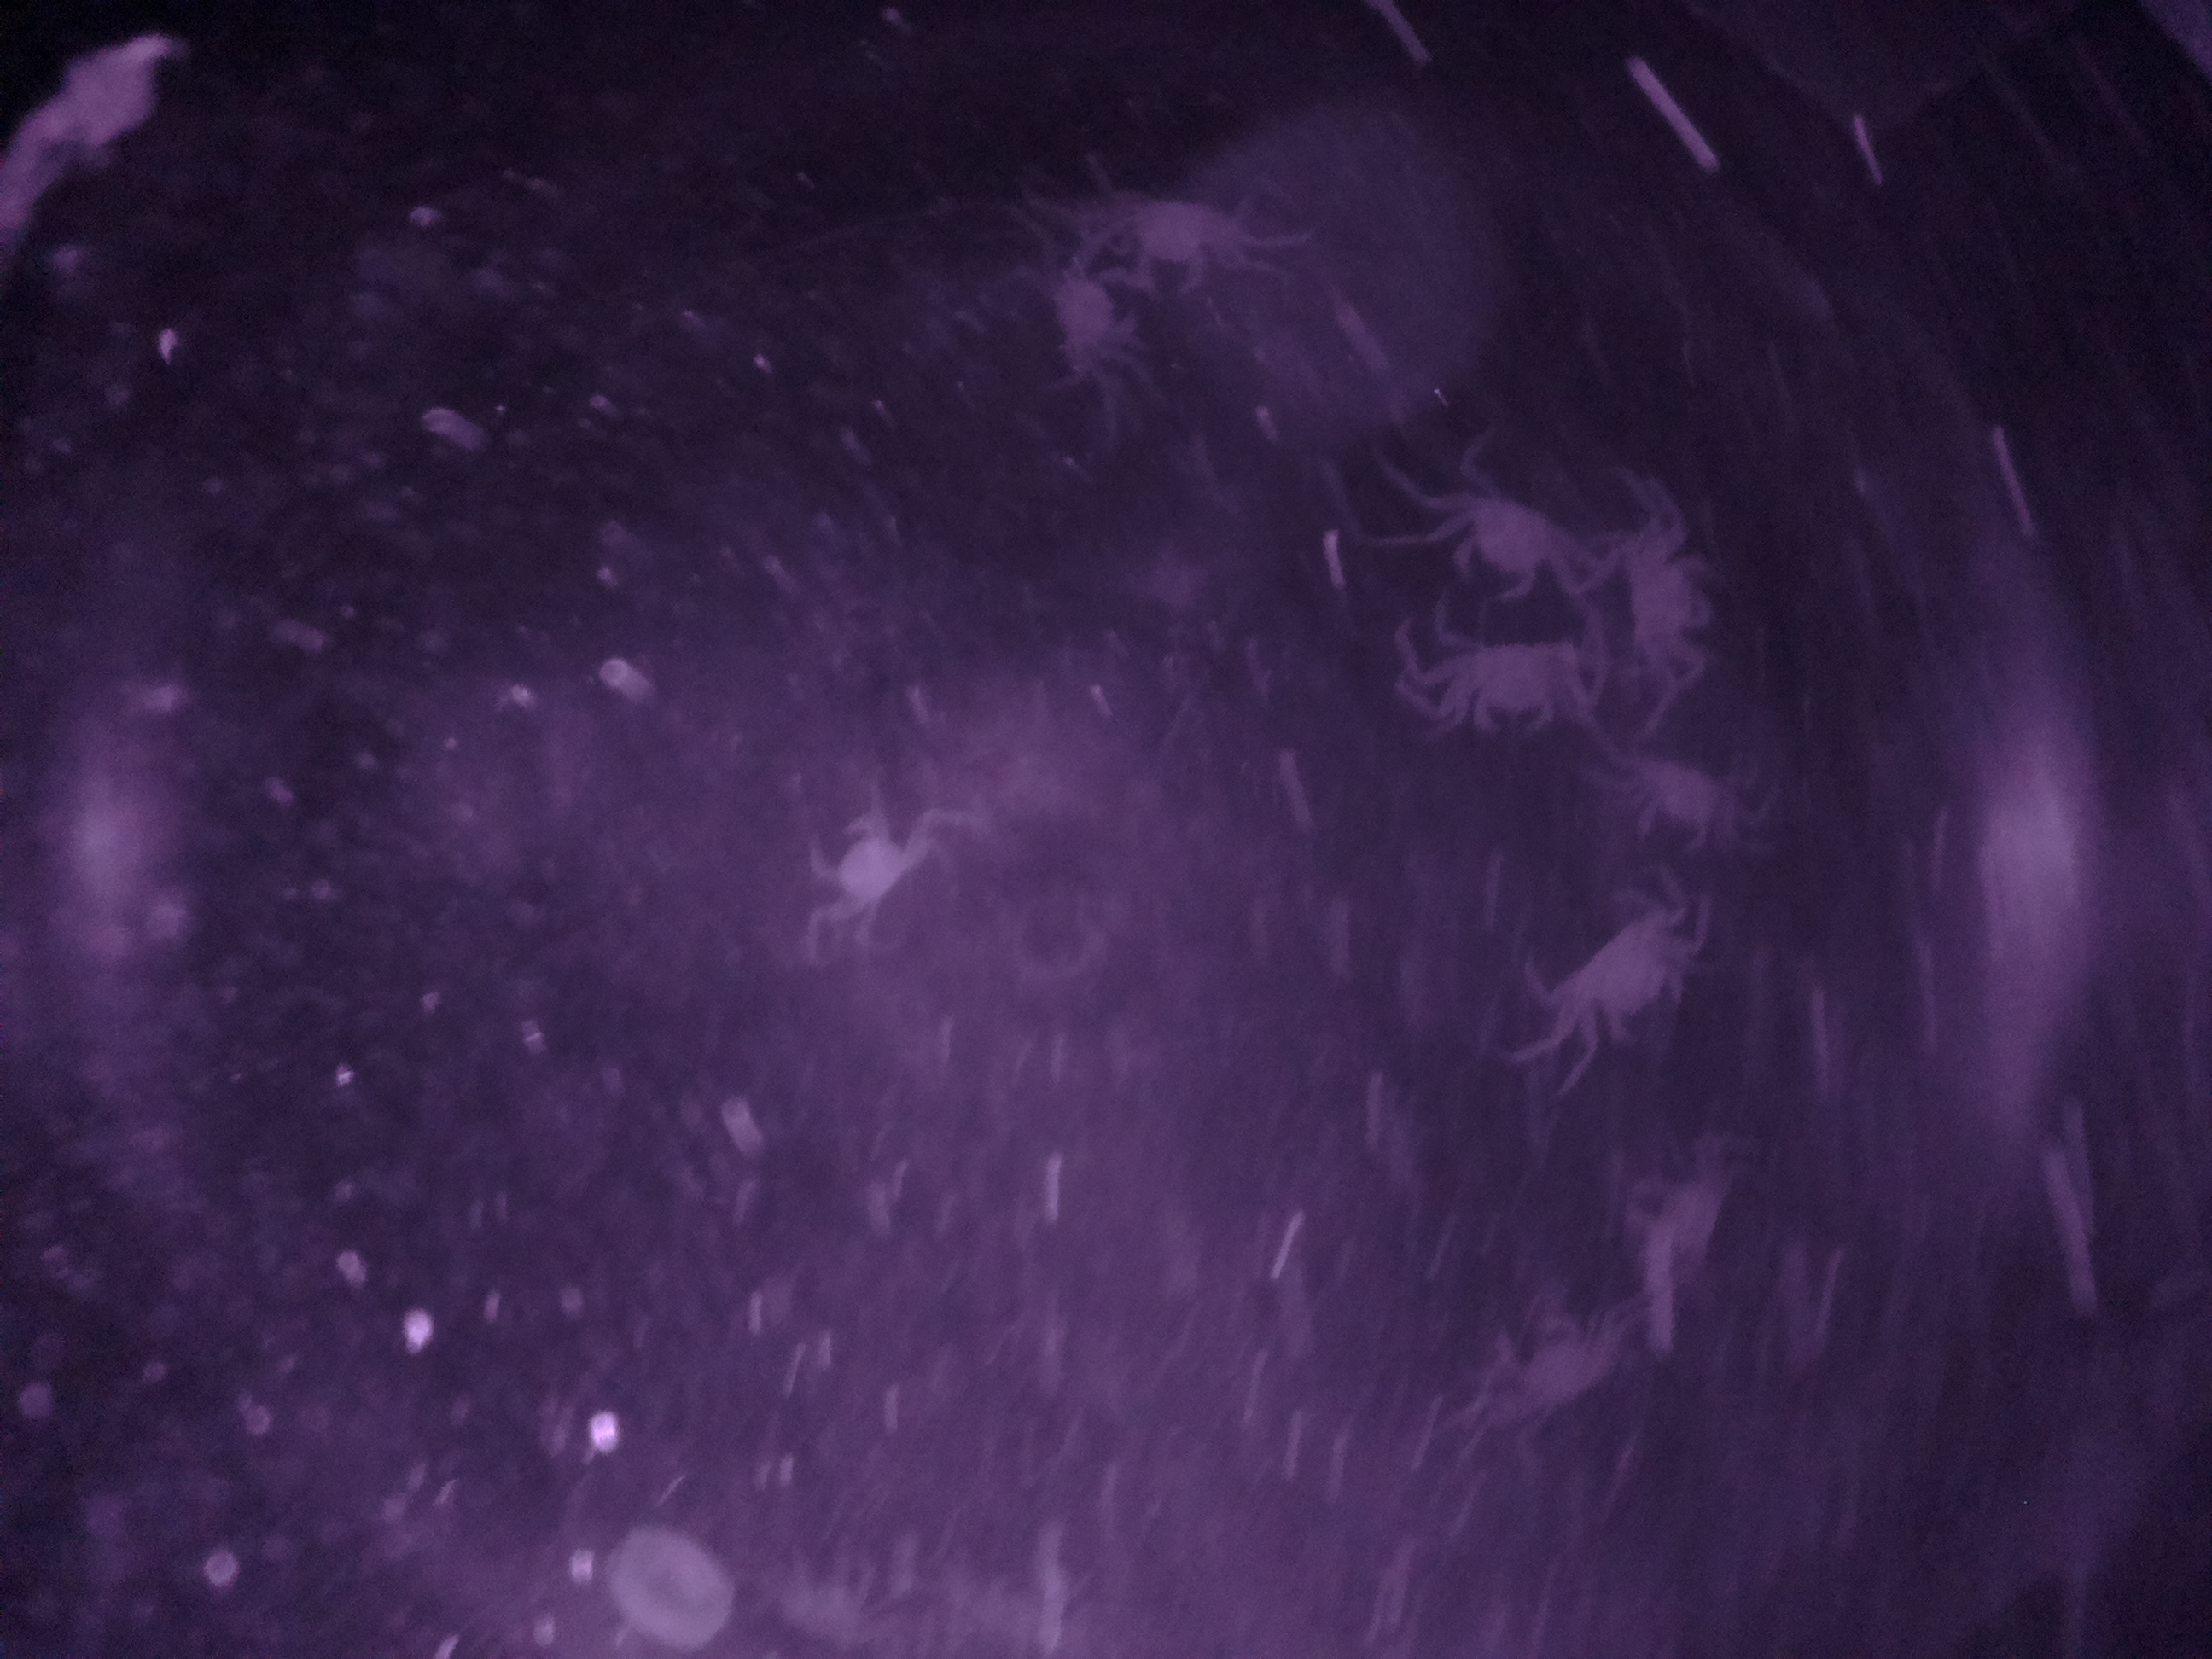Crab: (1413, 486, 1604, 615), (1407, 643, 1592, 755)
